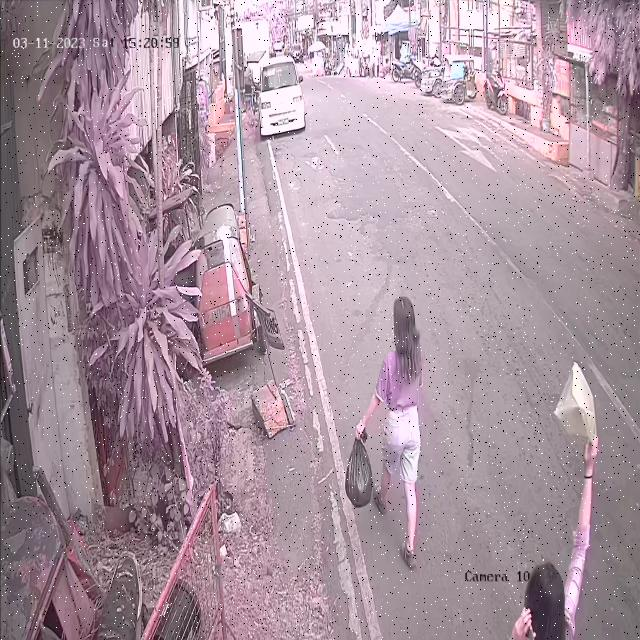human: (344, 295, 422, 570), (504, 437, 598, 640)
trash: (549, 359, 599, 446), (342, 426, 374, 512)
